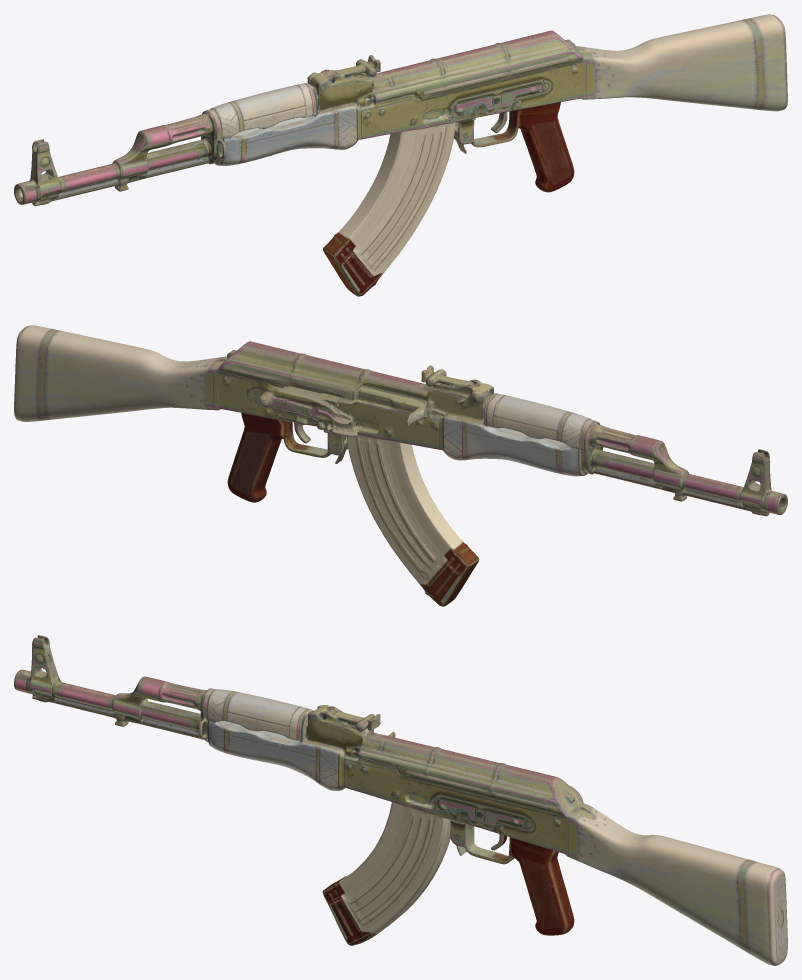
Rendered from Meshy_AI_ak47_1014151754_texture.glb.
The picture shows the model from 3 angles, top to bottom: view 1: azimuth 30°, elevation 25°; view 2: azimuth 150°, elevation 25°; view 3: azimuth 330°, elevation 25°; orthographic projection.
Size of the model in its own units: 1.9 by 0.5485 by 0.1617.
Materials: 1 (1 with a texture image).
